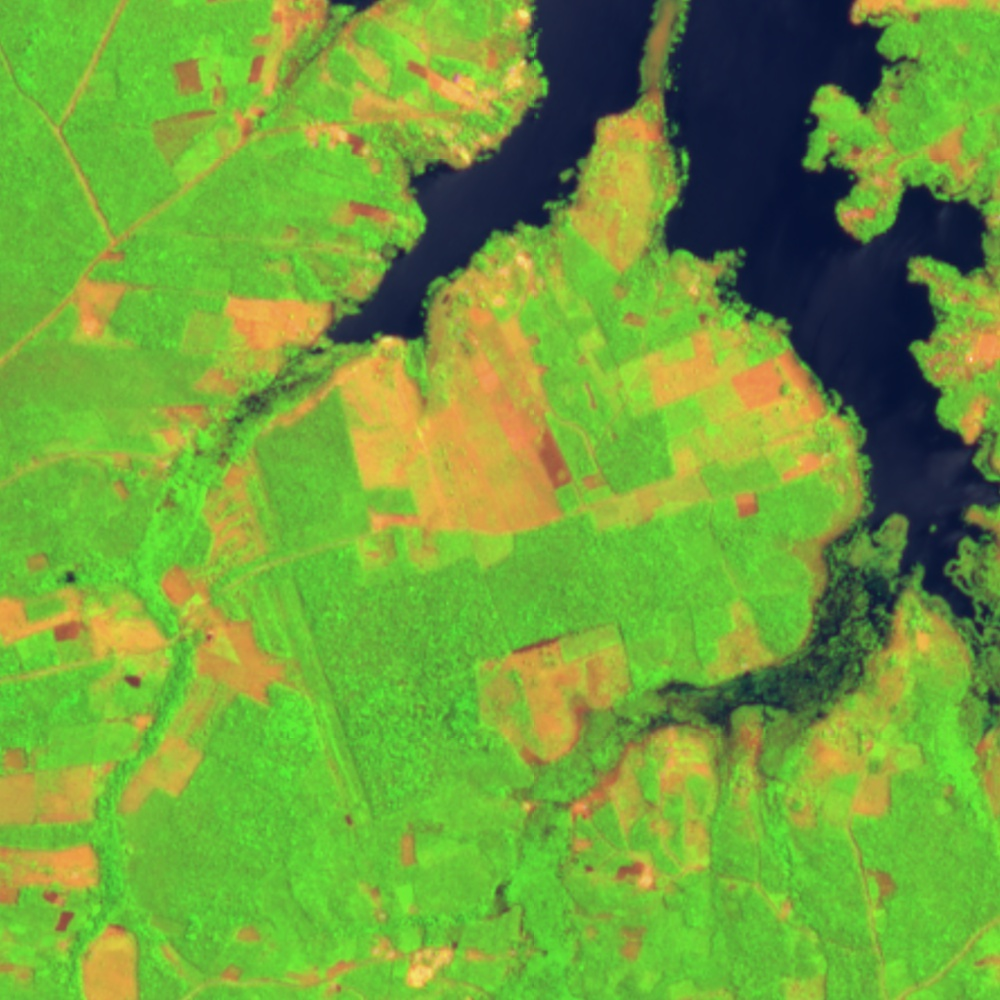legal: (330, 243, 850, 564), (1, 549, 316, 833), (150, 1, 551, 177), (119, 353, 286, 569), (287, 830, 497, 992), (471, 616, 639, 779), (581, 728, 730, 895), (737, 709, 934, 831), (279, 193, 424, 295), (831, 588, 933, 724), (1, 838, 102, 935), (215, 292, 334, 358), (71, 275, 159, 349), (777, 899, 839, 1000), (566, 903, 656, 967), (75, 924, 150, 1000), (218, 923, 267, 991), (868, 861, 897, 913)
